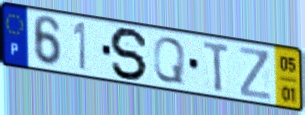1: (71, 21, 88, 74)
6: (32, 13, 64, 69)
Q: (152, 35, 187, 86)
S: (108, 26, 151, 82)
T: (202, 39, 232, 94)
Z: (237, 45, 274, 103)
